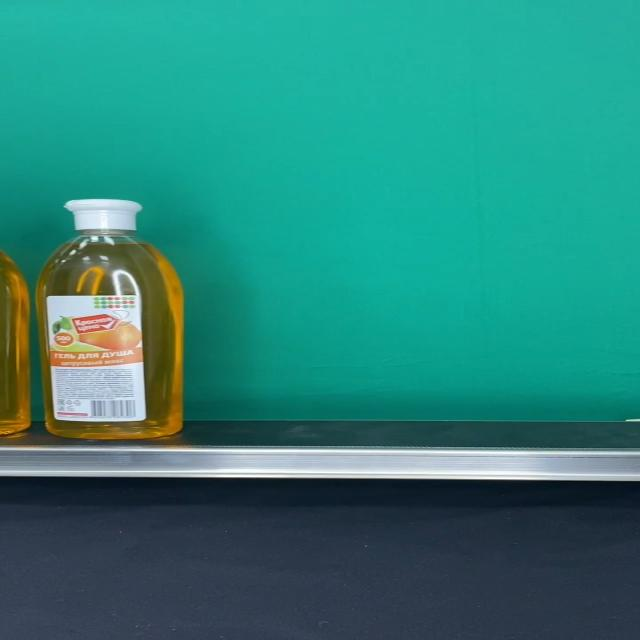Bottle: (36, 199, 184, 439)
Cap: (63, 199, 141, 231)
